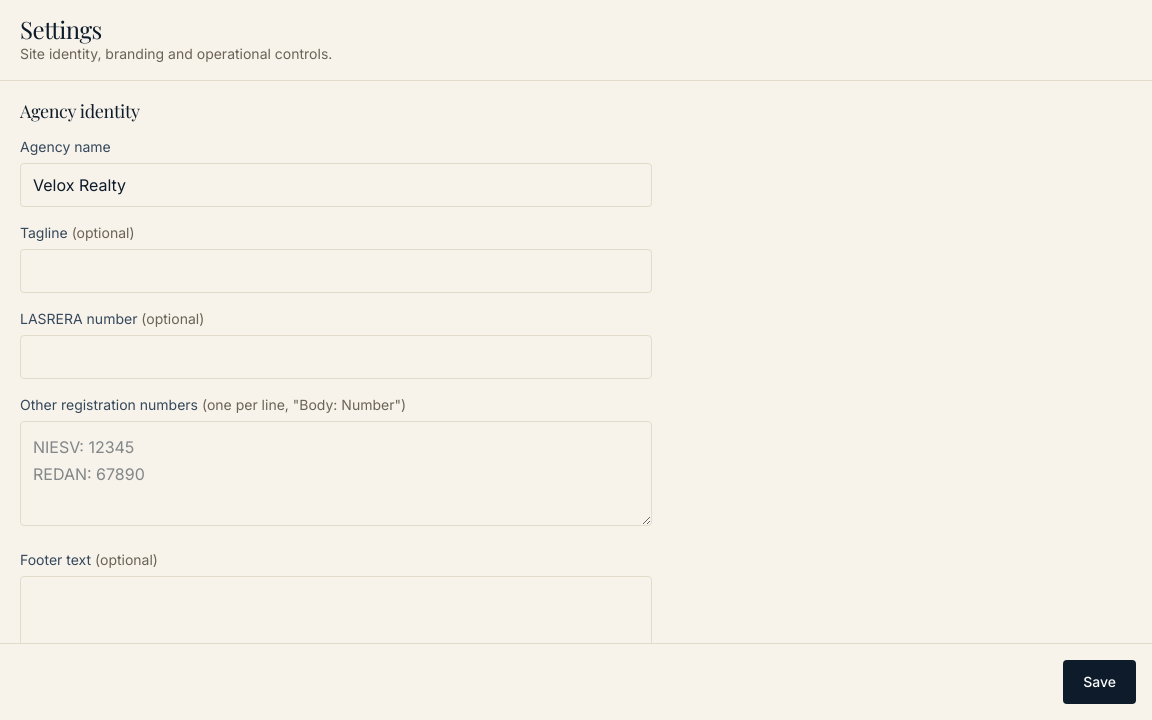
SettingsForm › shows an unmatched server error as a form-level banner
Click the button "Save" at [1100, 682], box left=1063, top=660, right=1136, bottom=704
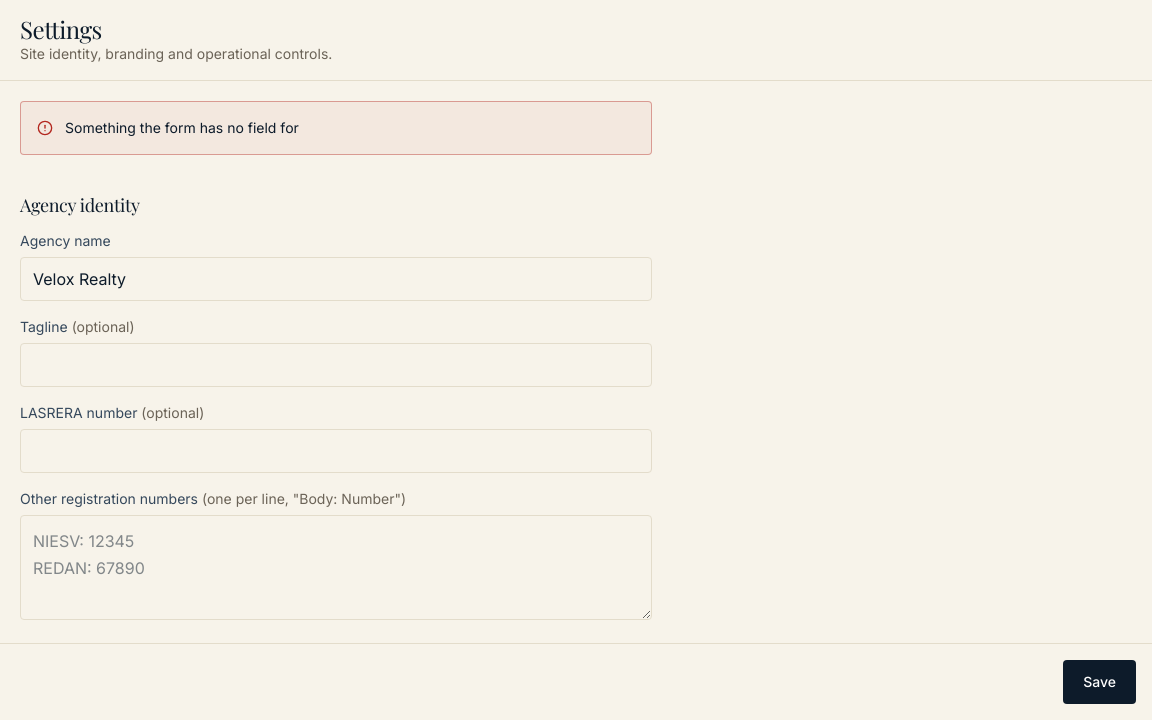
Expected: the text "Something the form has no field for" is shown, left=65, top=118, right=299, bottom=138
